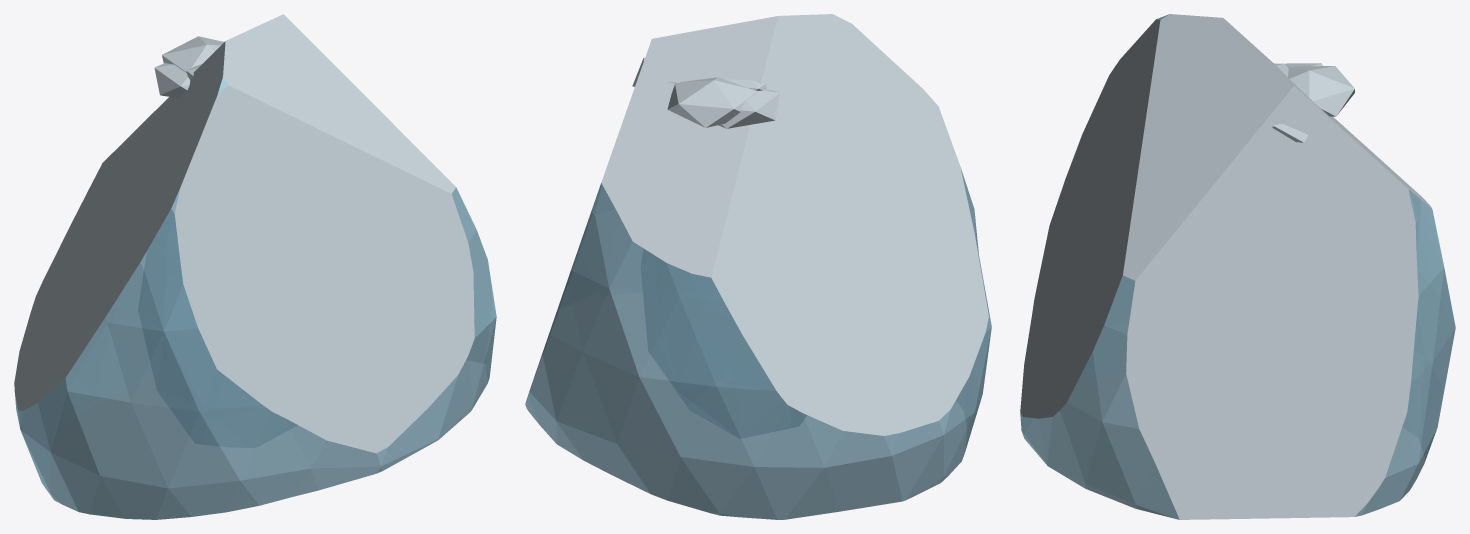
Rendered from DISASTER_14_IceFragment.obj.
3 views of the same model, side by side, from view 1: azimuth 30°, elevation 25°; view 2: azimuth 150°, elevation 25°; view 3: azimuth 270°, elevation 25° (orthographic). The views are drawn at different scales.
Visible parts, largest first — view 1: DISASTER_14_IceFragment_Ice_Shell, DISASTER_14_IceFragment_Frost_Cap; view 2: DISASTER_14_IceFragment_Ice_Shell, DISASTER_14_IceFragment_Frost_Cap; view 3: DISASTER_14_IceFragment_Ice_Shell, DISASTER_14_IceFragment_Frost_Cap.
Part boxes in pixels (x1,y1,x2,y2): DISASTER_14_IceFragment_Ice_Shell: (14, 14, 496, 519); DISASTER_14_IceFragment_Frost_Cap: (154, 36, 226, 98); DISASTER_14_IceFragment_Ice_Shell: (525, 14, 991, 519); DISASTER_14_IceFragment_Frost_Cap: (632, 57, 779, 128); DISASTER_14_IceFragment_Ice_Shell: (1020, 14, 1455, 519); DISASTER_14_IceFragment_Frost_Cap: (1272, 63, 1354, 142).
Bounding box in the file's own units: 1.19 × 1.13 × 1.01.
